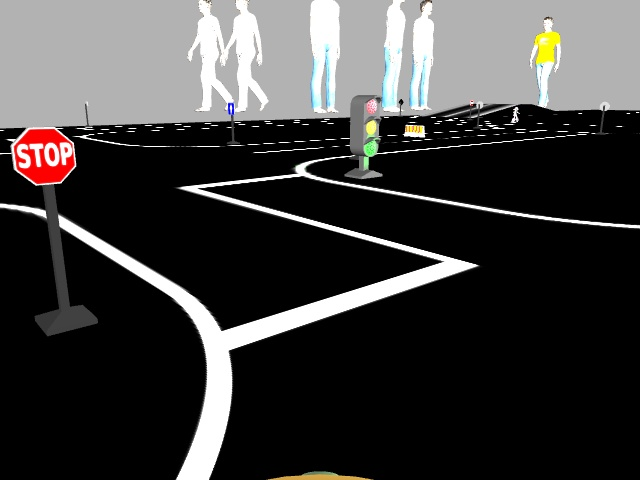ClosedRoadStand: (403, 122, 424, 136)
Stop: (12, 126, 78, 182)
TrafficLight: (350, 93, 378, 155)
